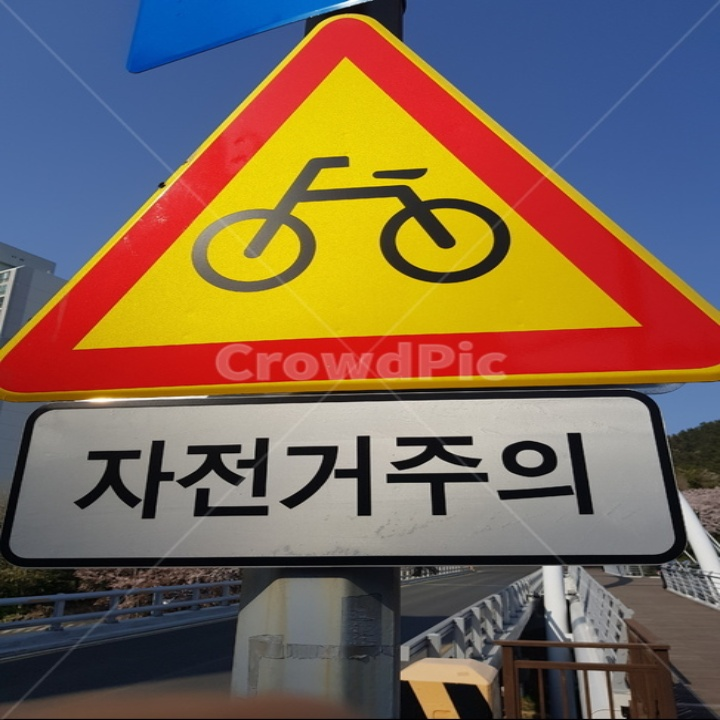bicycle: (4, 14, 719, 381)
